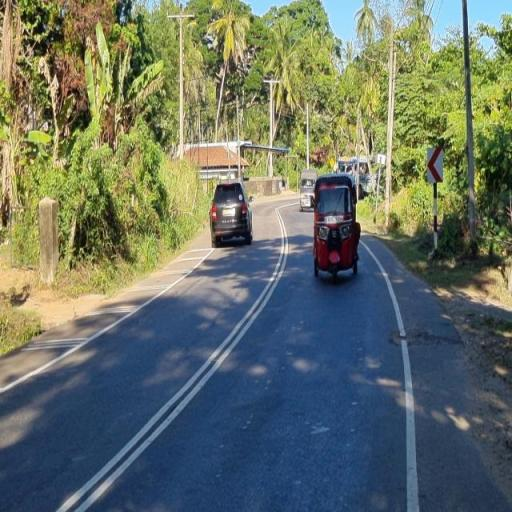double_white_line: (54, 204, 296, 512)
